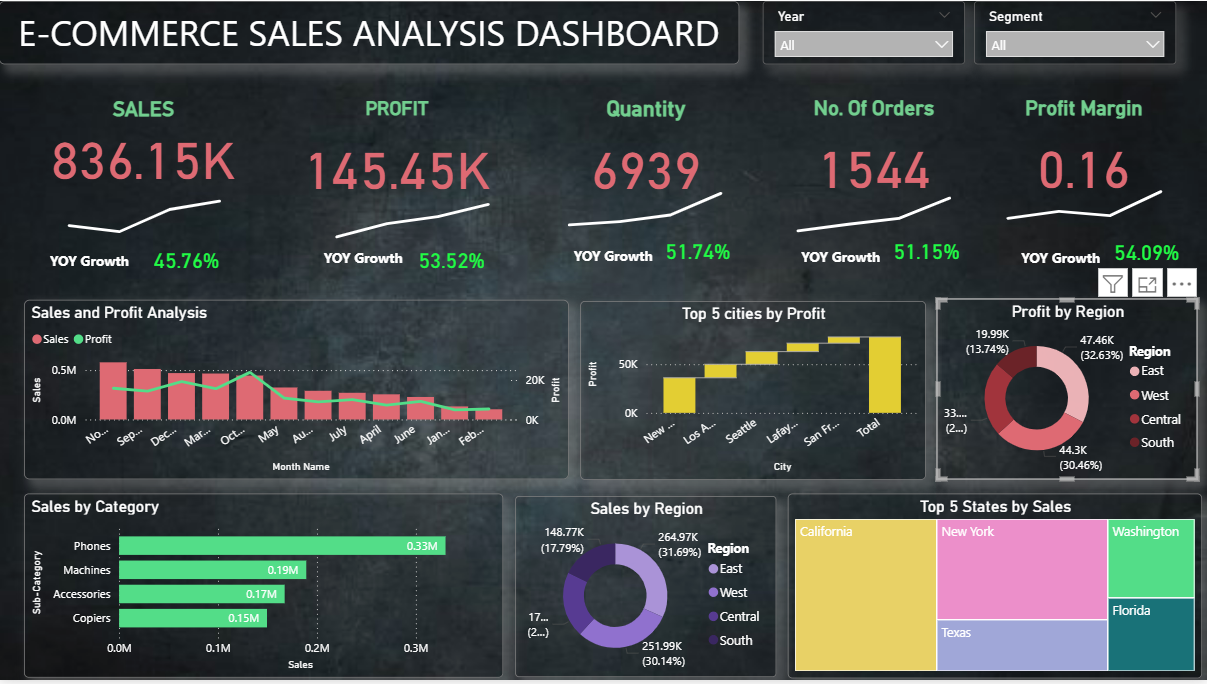

The dashboard page shown, as its layout file describes it:
{"tool":"powerbi","page":{"name":"Page 1","canvas":[1280,720],"ordinal":0},"visuals":[{"type":"card","title":"SALES","fields":{"Values":["Sum(Dataset.Sales)"]},"box":[38.4,101.5,229.2,97.4],"z":0},{"type":"textbox","box":[0,0,784.7,67.3],"z":1000},{"type":"card","title":"Quantity","fields":{"Values":["Sum(Dataset.Quantity)"]},"box":[581.8,100.2,208.6,119.4],"z":2000},{"type":"card","title":"PROFIT","fields":{"Values":["Sum(Dataset.Profit)"]},"box":[310.1,101.5,223.7,119.4],"z":3000},{"type":"card","title":"No. Of Orders","fields":{"Values":["Count(Dataset.Order ID)"]},"box":[830.2,100.2,193.5,119.4],"z":4000},{"type":"card","title":"Profit Margin","fields":{"Values":["Avg(Dataset.Profit_Margin)"]},"box":[1053.9,100.2,193.5,119.4],"z":5000},{"type":"lineChart","fields":{"Category":["Dataset.Order date.Variation.Date Hierarchy.Year","Dataset.Order date.Variation.Date Hierarchy.Quarter","Dataset.Order date.Variation.Date Hierarchy.Month","Dataset.Order date.Variation.Date Hierarchy.Day"],"Y":["Sum(Dataset.Sales Amount)"]},"box":[59,190.7,189.4,71.4],"z":6000},{"type":"lineChart","fields":{"Category":["Dataset.Order date.Variation.Date Hierarchy.Year","Dataset.Order date.Variation.Date Hierarchy.Quarter","Dataset.Order date.Variation.Date Hierarchy.Month","Dataset.Order date.Variation.Date Hierarchy.Day"],"Y":["Sum(Dataset.Profit)"]},"box":[343.1,190.7,190.7,67.2],"z":7000},{"type":"lineChart","fields":{"Category":["Dataset.Order date.Variation.Date Hierarchy.Year","Dataset.Order date.Variation.Date Hierarchy.Quarter","Dataset.Order date.Variation.Date Hierarchy.Month","Dataset.Order date.Variation.Date Hierarchy.Day"],"Y":["Sum(Dataset.Quantity)"]},"box":[590.1,185.2,190.7,71.4],"z":8000},{"type":"lineChart","fields":{"Category":["Dataset.Order date.Variation.Date Hierarchy.Year","Dataset.Order date.Variation.Date Hierarchy.Quarter","Dataset.Order date.Variation.Date Hierarchy.Month","Dataset.Order date.Variation.Date Hierarchy.Day"],"Y":["CountNonNull(Dataset.Order ID)"]},"box":[831.6,185.2,190.7,71.4],"z":9000},{"type":"lineChart","fields":{"Category":["Dataset.Order date.Variation.Date Hierarchy.Year","Dataset.Order date.Variation.Date Hierarchy.Quarter","Dataset.Order date.Variation.Date Hierarchy.Month","Dataset.Order date.Variation.Date Hierarchy.Day"],"Y":["Sum(Dataset.Profit_Margin)"]},"box":[1055.2,175.6,192.1,71.4],"z":10000},{"type":"card","fields":{"Values":["Dataset.Sum of Sales Amount YoY%"]},"box":[130.3,244.9,137.5,60.3],"z":11000},{"type":"textbox","box":[49.5,259.4,120.6,45.8],"z":12000},{"type":"textbox","box":[338.9,256.6,108.4,38.4],"z":13000},{"type":"textbox","box":[604.4,254.6,100.1,39.8],"z":14000},{"type":"textbox","box":[845.3,255.2,100.2,39.8],"z":15000},{"type":"textbox","box":[1078.6,256.6,105.7,37],"z":16000},{"type":"lineClusteredColumnComboChart","title":"Sales and Profit Analysis","fields":{"Category":["Dataset.Month Name"],"Y2":["Sum(Dataset.Profit)"],"Y":["Sum(Dataset.Sales Amount)"]},"box":[26.1,317,577.7,190.7],"z":17000},{"type":"barChart","title":"Sales by Category","fields":{"Y":["Sum(Dataset.Sales)"],"Category":["Dataset.Sub-Category"]},"box":[26.1,521.4,507.7,194.9],"z":18000},{"type":"slicer","title":"Year","fields":{"Values":["Dataset.Year"]},"box":[809.5,0,214.7,67.6],"z":19000},{"type":"slicer","title":"Year","fields":{"Values":["Dataset.Segment"]},"box":[1033.9,0,214.7,67.6],"z":20000},{"type":"treemap","title":"Top 5 States by Sales","fields":{"Group":["Dataset.State"],"Values":["Sum(Dataset.Sales)"]},"box":[835.7,521.4,439.1,196.2],"z":21000},{"type":"donutChart","title":" Sales by Region","fields":{"Category":["Dataset.Region"],"Y":["Sum(Dataset.Sales)"]},"box":[547.5,521.4,277.2,192.1],"z":22000},{"type":"donutChart","title":"Profit by Region","fields":{"Category":["Dataset.Region"],"Y":["Sum(Dataset.Profit)"]},"box":[993.5,315.6,277.2,192.1],"z":23000},{"type":"waterfallChart","title":"Top 5 cities by Profit","fields":{"Category":["Dataset.City"],"Y":["Sum(Dataset.Profit)"]},"box":[616.1,318.4,366.4,189.4],"z":24000},{"type":"card","fields":{"Values":["Dataset.Sum of Profit YoY%"]},"box":[410.2,244.9,137.5,60.3],"z":25000},{"type":"card","fields":{"Values":["Dataset.Sum of Quantity YoY%"]},"box":[672,235.3,137.5,60.3],"z":26000},{"type":"card","fields":{"Values":["Dataset.Count of Order ID YoY%"]},"box":[914.5,235.3,137.5,60.3],"z":27000},{"type":"card","fields":{"Values":["Dataset.Sum of Profit_Margin YoY%"]},"box":[1162.1,235.9,108.7,61],"z":28000}]}

Visuals, with their boxes in screenshot pixels (x1, y1, x2, y2), scaled from the page's 1280x720 canvas onto the 1207x684 screenshot:
"SALES" card: {"x1": 36, "y1": 96, "x2": 252, "y2": 189}
textbox: {"x1": 0, "y1": 0, "x2": 740, "y2": 64}
"Quantity" card: {"x1": 549, "y1": 95, "x2": 745, "y2": 209}
"PROFIT" card: {"x1": 292, "y1": 96, "x2": 503, "y2": 210}
"No. Of Orders" card: {"x1": 783, "y1": 95, "x2": 965, "y2": 209}
"Profit Margin" card: {"x1": 994, "y1": 95, "x2": 1176, "y2": 209}
lineChart - Dataset.Order date.Variation.Date Hierarchy.Year x Dataset.Order date.Variation.Date Hierarchy.Quarter: {"x1": 56, "y1": 181, "x2": 234, "y2": 249}
lineChart - Dataset.Order date.Variation.Date Hierarchy.Year x Dataset.Order date.Variation.Date Hierarchy.Quarter: {"x1": 324, "y1": 181, "x2": 503, "y2": 245}
lineChart - Dataset.Order date.Variation.Date Hierarchy.Year x Dataset.Order date.Variation.Date Hierarchy.Quarter: {"x1": 556, "y1": 176, "x2": 736, "y2": 244}
lineChart - Dataset.Order date.Variation.Date Hierarchy.Year x Dataset.Order date.Variation.Date Hierarchy.Quarter: {"x1": 784, "y1": 176, "x2": 964, "y2": 244}
lineChart - Dataset.Order date.Variation.Date Hierarchy.Year x Dataset.Order date.Variation.Date Hierarchy.Quarter: {"x1": 995, "y1": 167, "x2": 1176, "y2": 235}
card - Dataset.Sum of Sales Amount YoY%: {"x1": 123, "y1": 233, "x2": 253, "y2": 290}
textbox: {"x1": 47, "y1": 246, "x2": 160, "y2": 290}
textbox: {"x1": 320, "y1": 244, "x2": 422, "y2": 280}
textbox: {"x1": 570, "y1": 242, "x2": 664, "y2": 280}
textbox: {"x1": 797, "y1": 242, "x2": 892, "y2": 280}
textbox: {"x1": 1017, "y1": 244, "x2": 1117, "y2": 279}
"Sales and Profit Analysis" lineClusteredColumnComboChart: {"x1": 25, "y1": 301, "x2": 569, "y2": 482}
"Sales by Category" barChart: {"x1": 25, "y1": 495, "x2": 503, "y2": 680}
"Year" slicer: {"x1": 763, "y1": 0, "x2": 966, "y2": 64}
"Year" slicer: {"x1": 975, "y1": 0, "x2": 1177, "y2": 64}
"Top 5 States by Sales" treemap: {"x1": 788, "y1": 495, "x2": 1202, "y2": 682}
" Sales by Region" donutChart: {"x1": 516, "y1": 495, "x2": 778, "y2": 678}
"Profit by Region" donutChart: {"x1": 937, "y1": 300, "x2": 1198, "y2": 482}
"Top 5 cities by Profit" waterfallChart: {"x1": 581, "y1": 302, "x2": 926, "y2": 482}
card - Dataset.Sum of Profit YoY%: {"x1": 387, "y1": 233, "x2": 516, "y2": 290}
card - Dataset.Sum of Quantity YoY%: {"x1": 634, "y1": 224, "x2": 763, "y2": 281}
card - Dataset.Count of Order ID YoY%: {"x1": 862, "y1": 224, "x2": 992, "y2": 281}
card - Dataset.Sum of Profit_Margin YoY%: {"x1": 1096, "y1": 224, "x2": 1198, "y2": 282}
